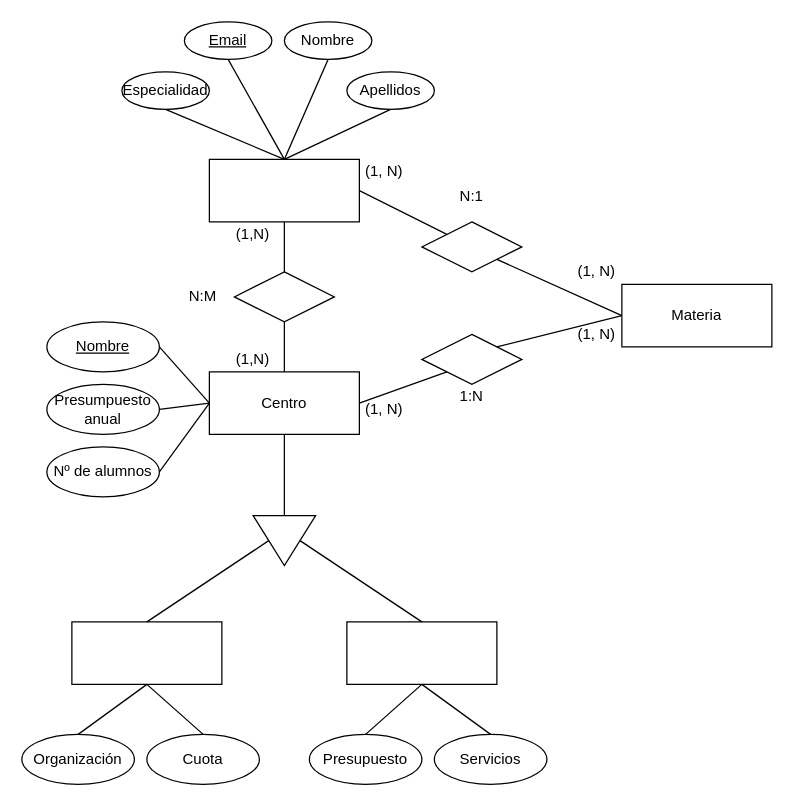
The diagram is 794 pixels wide and 806 high, and some of its shapes have lost their labels. The centre of each missing label's shape, as x and y in pixels:
Emplea: point (283, 296)
Imparte: point (471, 246)
Lista: point (471, 358)
Privado: point (146, 652)
Profesor: point (283, 190)
Público: point (421, 652)
